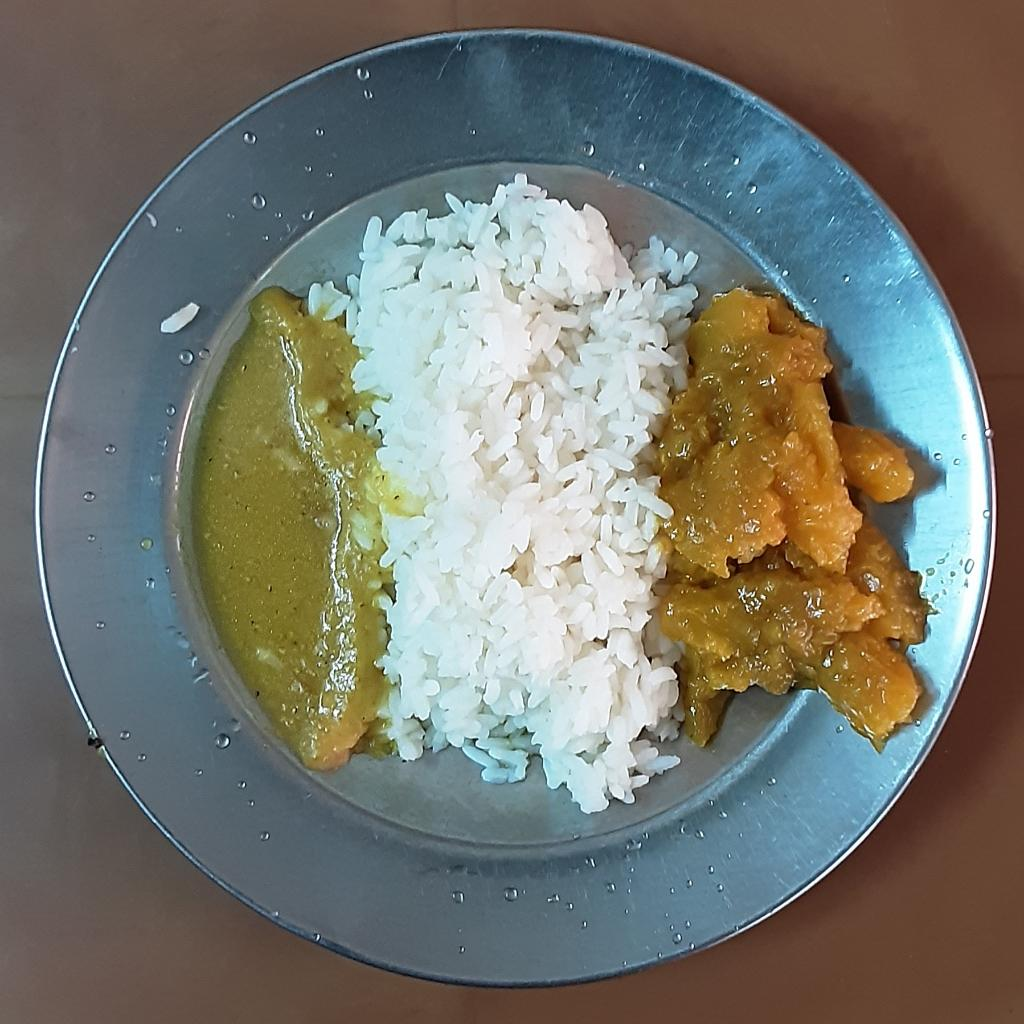daal: (191, 282, 386, 777)
kumra-vaji: (650, 285, 935, 749)
rice: (306, 166, 700, 816)
